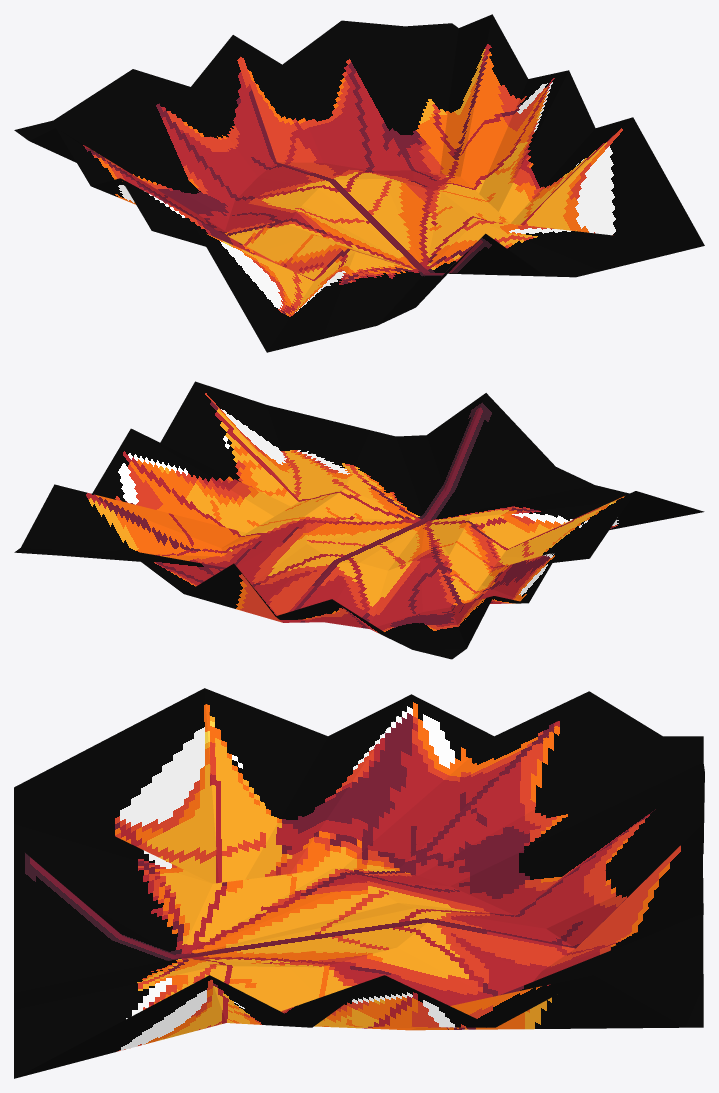
File: My_leaf.glb
3 renders of one model, top to bottom at view 1: azimuth 30°, elevation 25°; view 2: azimuth 150°, elevation 25°; view 3: azimuth 270°, elevation 25°, orthographic. The views are drawn at different scales.
Visible parts, largest first — view 1: Cube_Material_0; view 2: Cube_Material_0; view 3: Cube_Material_0.
Part boxes in pixels (x1=…): Cube_Material_0: x1=14, y1=14, x2=704, y2=352; Cube_Material_0: x1=14, y1=381, x2=704, y2=659; Cube_Material_0: x1=14, y1=688, x2=704, y2=1078.
Size of the model in its own units: 2 by 0.4435 by 2.
1 material, 1 textured.
